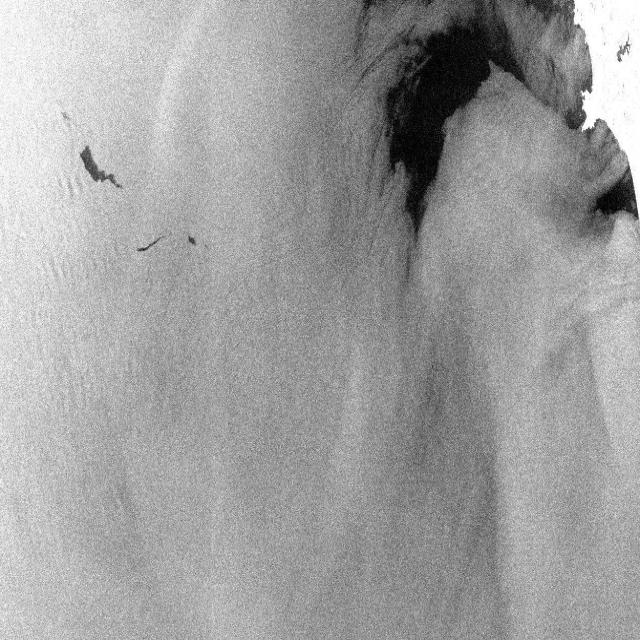oil-spill: (75, 137, 127, 200), (134, 228, 167, 258), (184, 230, 198, 251)
